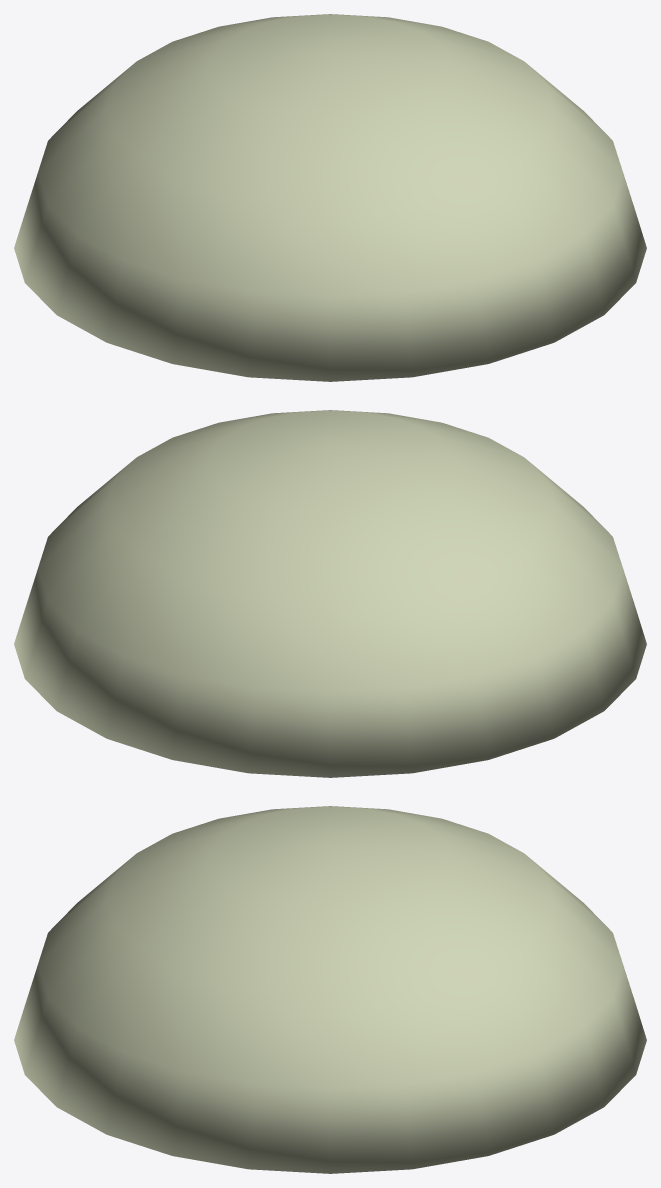
File: house.obj
3 renders of one model, top to bottom at view 1: azimuth 30°, elevation 25°; view 2: azimuth 150°, elevation 25°; view 3: azimuth 270°, elevation 25°, orthographic.
Parts seen in each view (by area): view 1: sphere2; view 2: sphere2; view 3: sphere2.
Boxes of the visible parts, <box> form: sphere2: <box>14,14,646,381</box>; sphere2: <box>14,410,646,777</box>; sphere2: <box>14,806,646,1173</box>.
Size of the model in its own units: 14.53 by 5.07 by 14.53.
